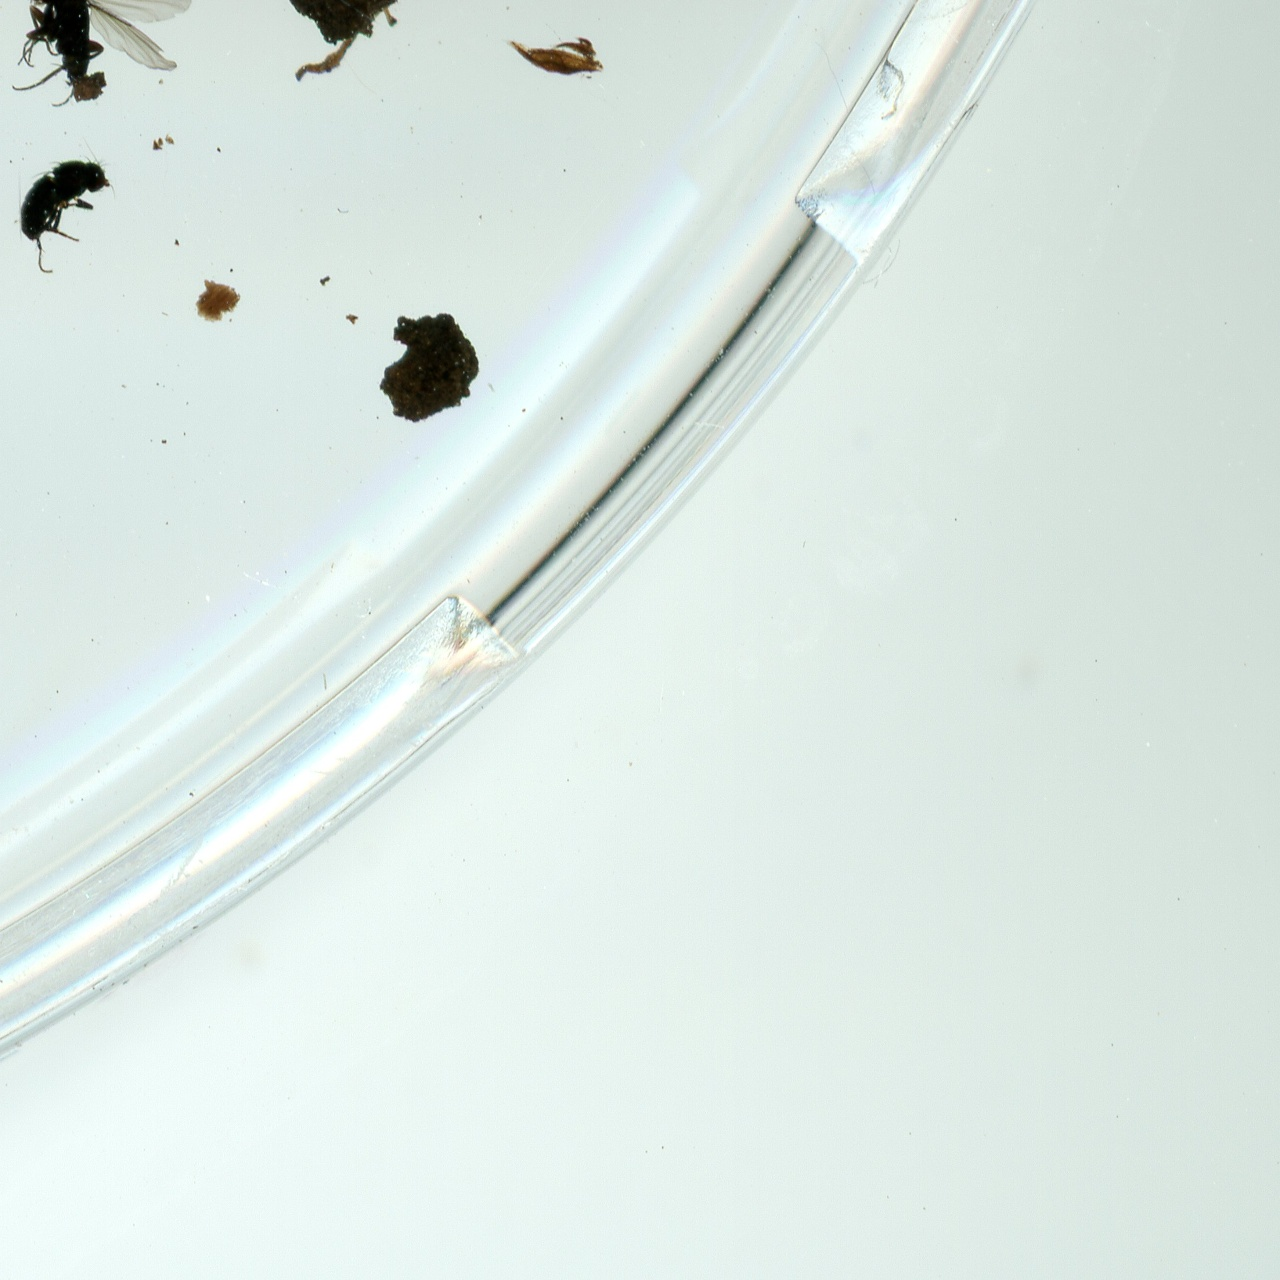arthropod: (8, 0, 197, 118), (9, 138, 122, 278)
